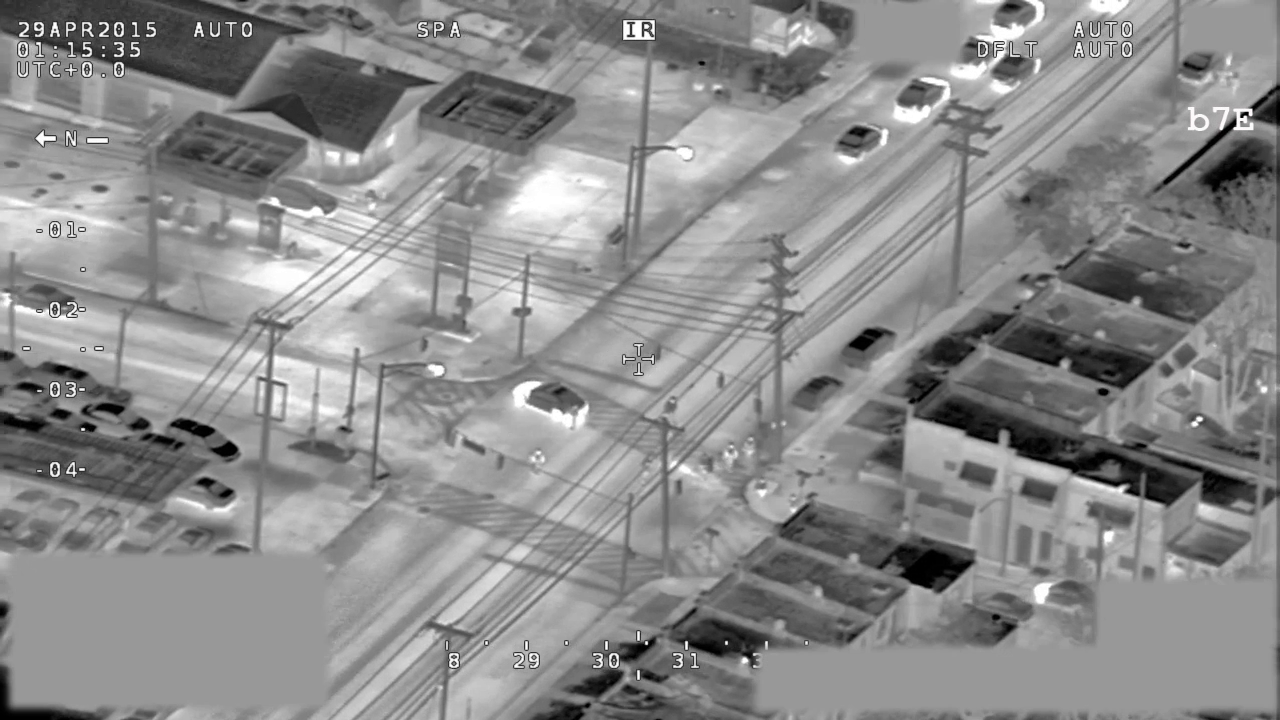vehicle: (31, 361, 115, 412), (886, 71, 954, 130), (509, 377, 589, 427), (167, 415, 243, 464), (60, 505, 132, 553), (1, 485, 55, 547), (16, 402, 99, 442), (24, 496, 84, 551), (133, 431, 209, 474), (838, 319, 897, 369), (949, 32, 1004, 85), (121, 508, 183, 553), (832, 121, 890, 169), (78, 400, 149, 439), (988, 46, 1043, 96), (985, 1, 1049, 43), (177, 474, 244, 514), (789, 373, 847, 417), (163, 523, 220, 553), (1171, 53, 1227, 80), (1, 349, 42, 383)
